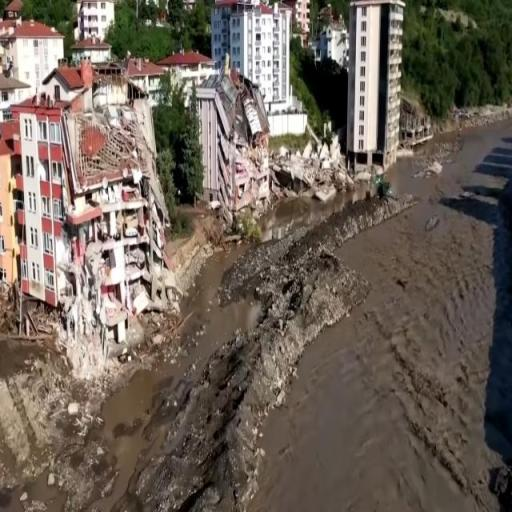flood: (91, 363, 170, 512), (180, 245, 257, 366), (259, 183, 375, 241), (0, 470, 66, 512)
house: (13, 100, 111, 304), (209, 0, 290, 110), (352, 4, 404, 153), (8, 18, 66, 106), (74, 2, 117, 60)
